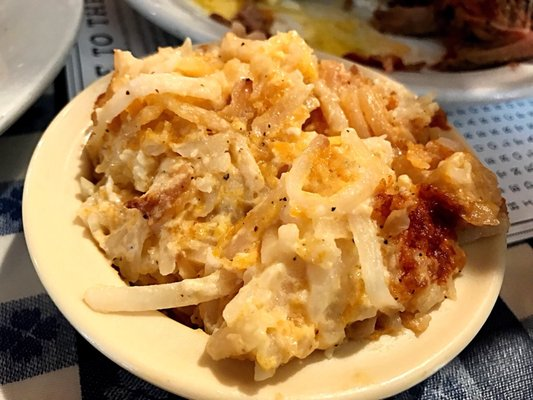burger: (503, 217, 533, 248)
